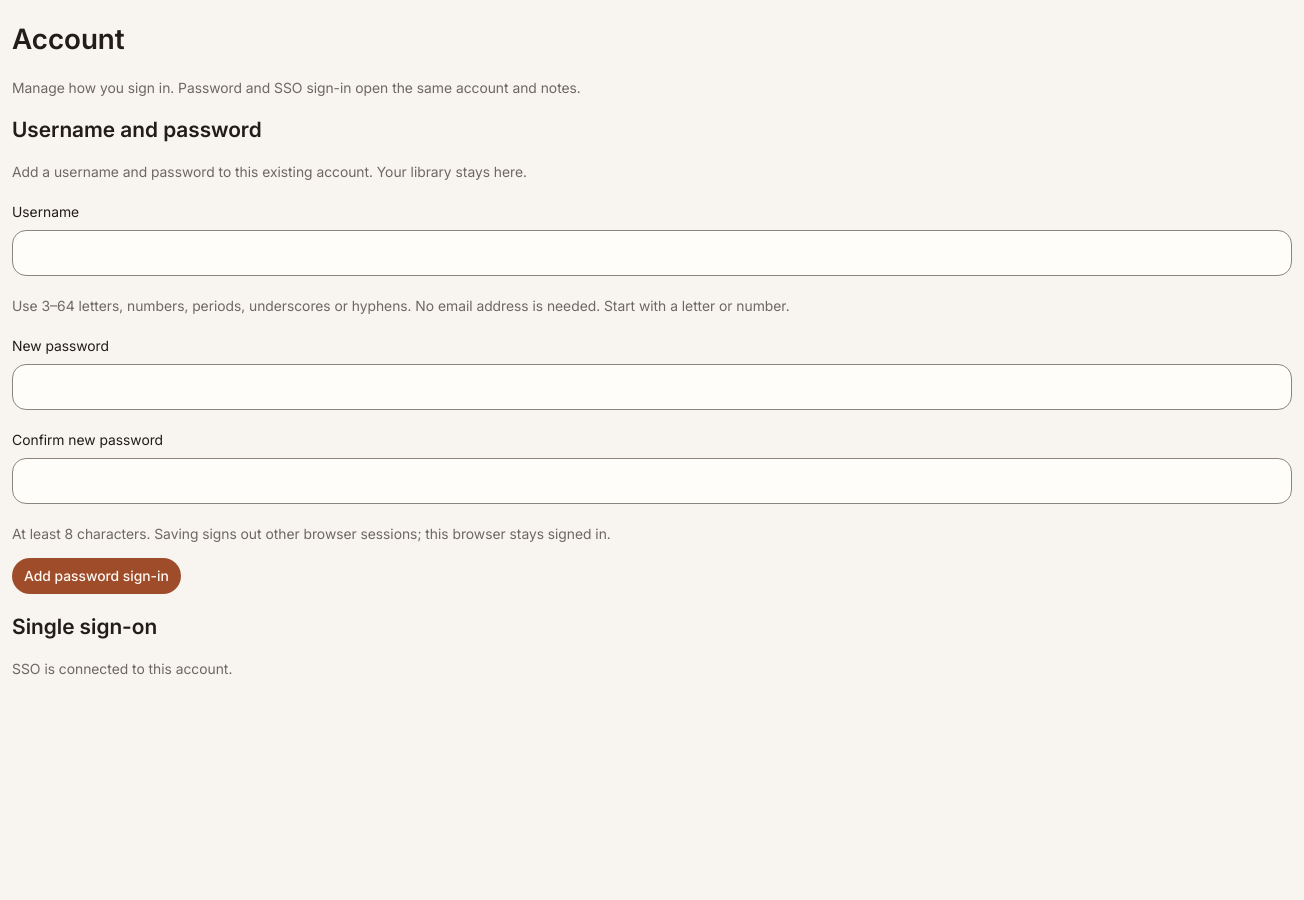
Test: adds local credentials to the existing account and rehydrates its session instead of registering
Step 1. Type "Vito-local" into the field labelled "Username" → (652, 253), box [12,230,1292,276]
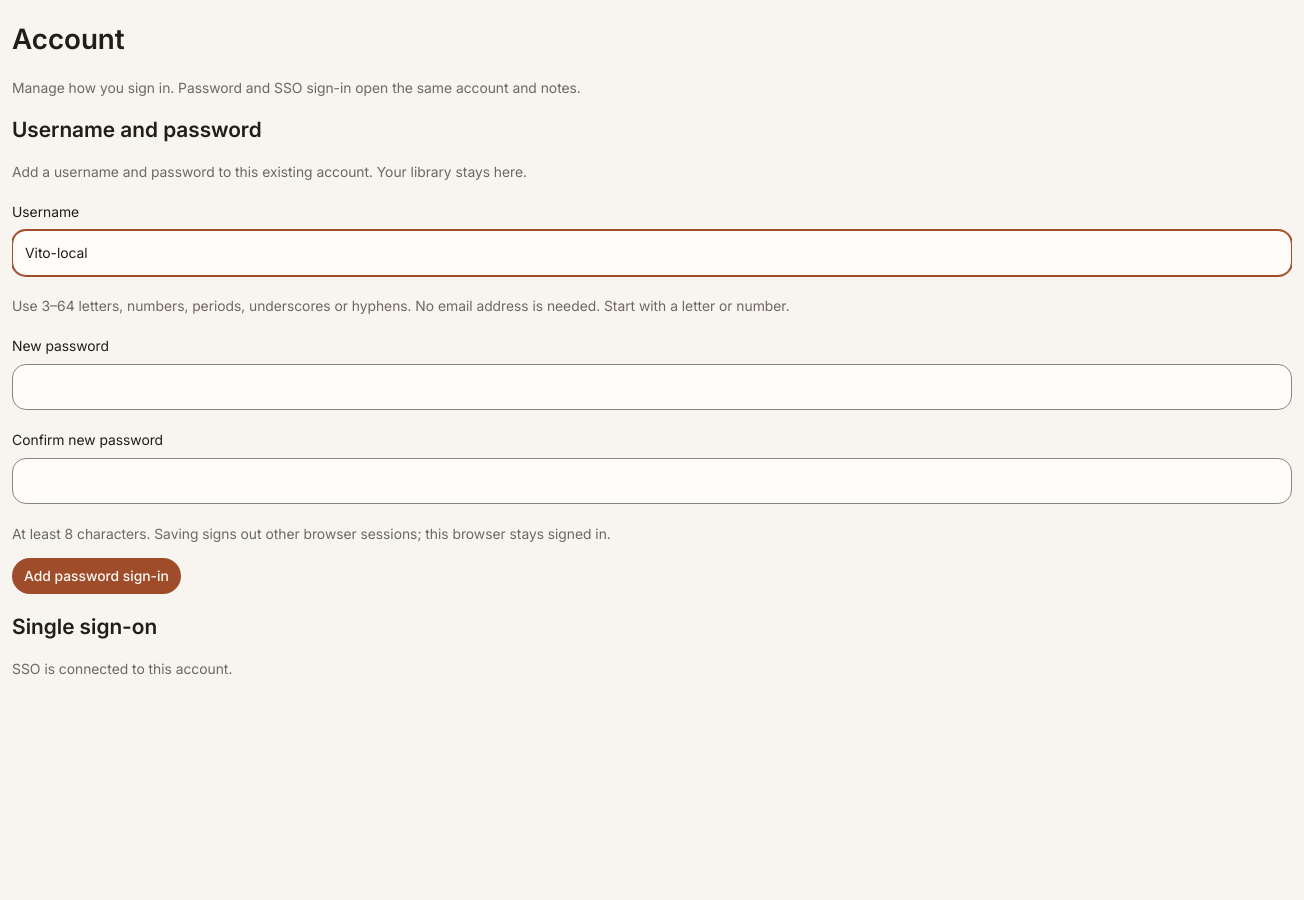
Expected: the field labelled "Current password" is not shown
Step 2. Type "new safe passphrase" into the password field labelled "New password" → (652, 387), box [12,364,1292,410]
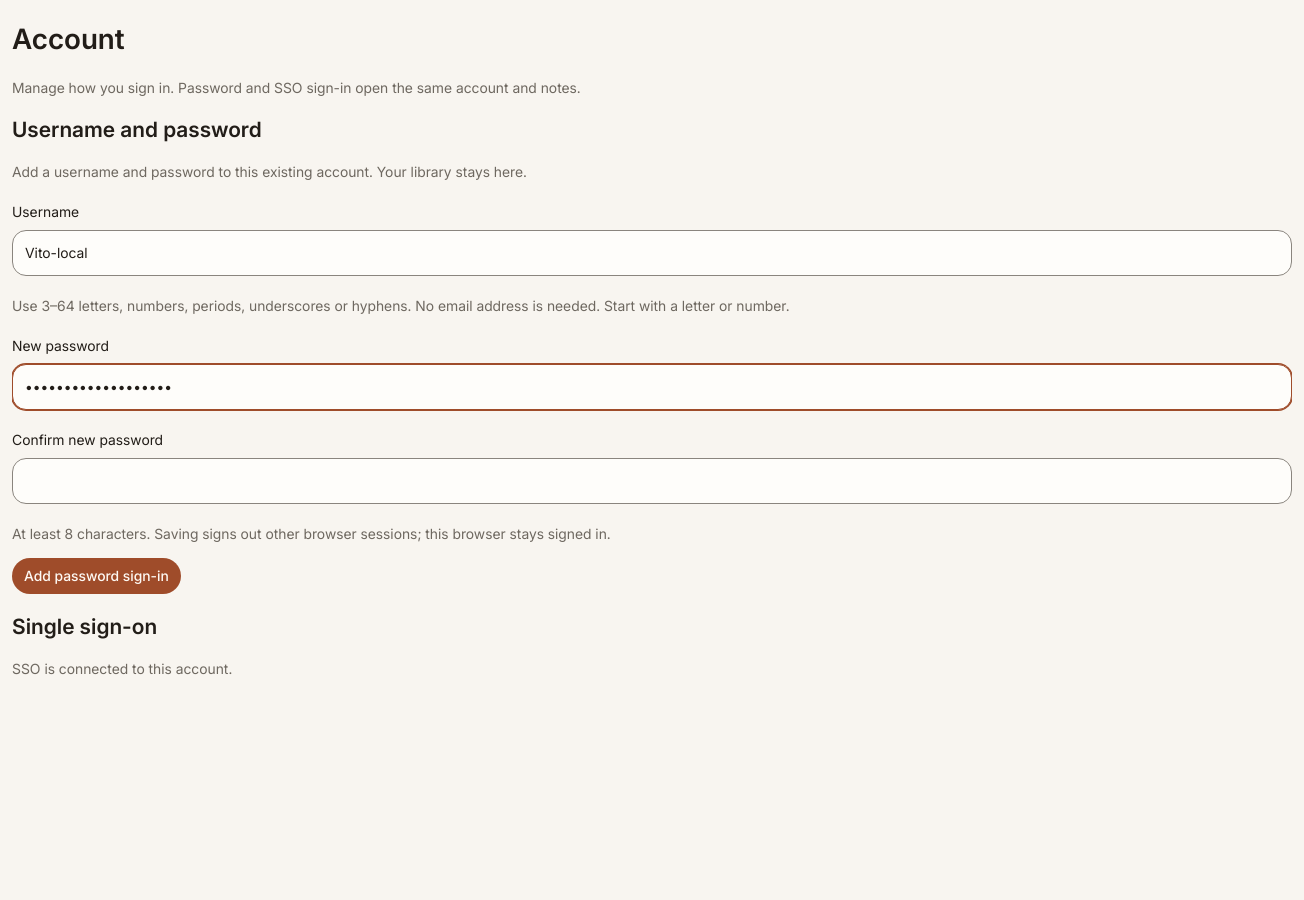
Step 3. Type "new safe passphrase" into the password field labelled "Confirm new password" → (652, 481), box [12,458,1292,504]
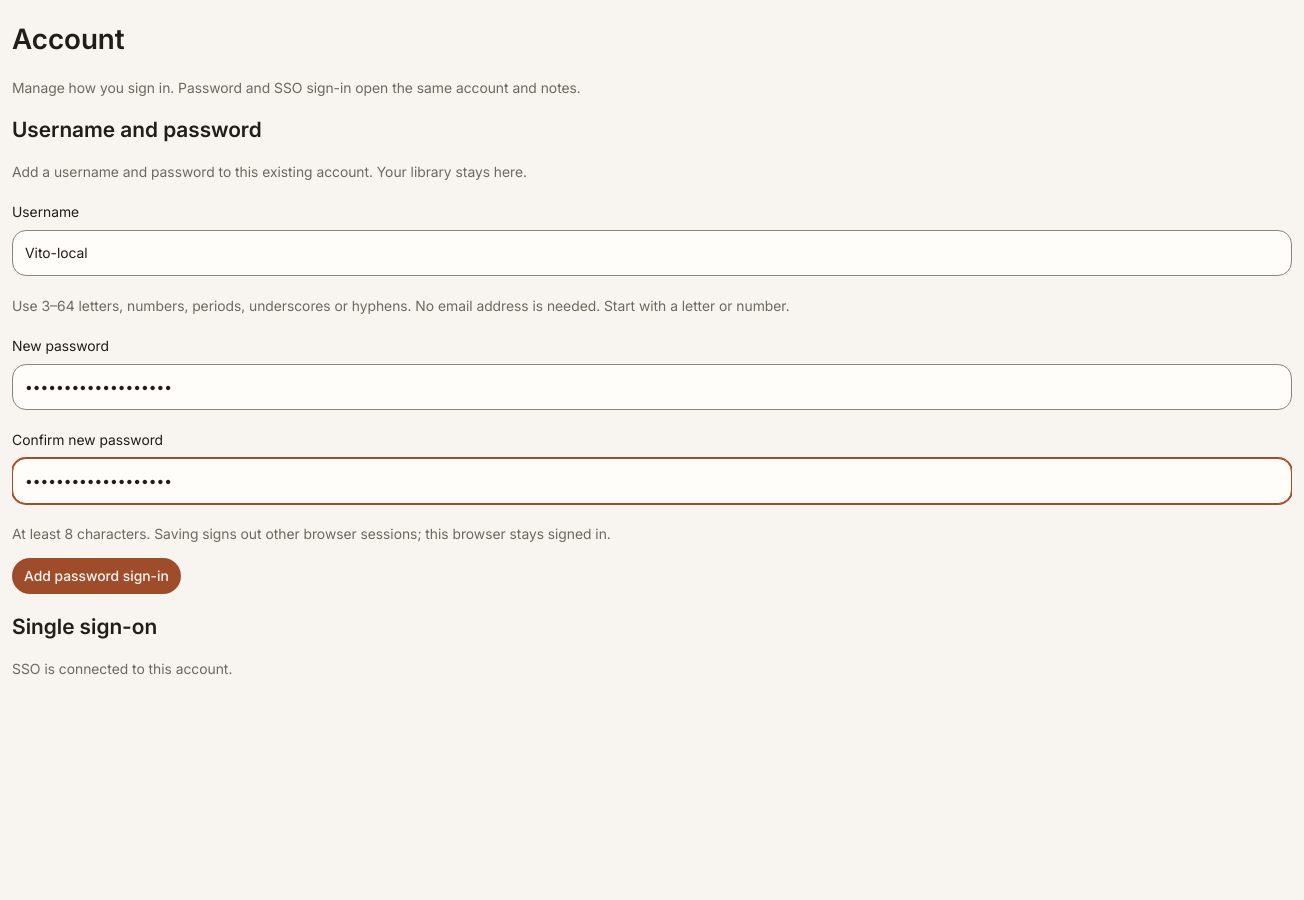
Step 4. Click the button "Add password sign-in" → (96, 576), box [12,558,181,594]
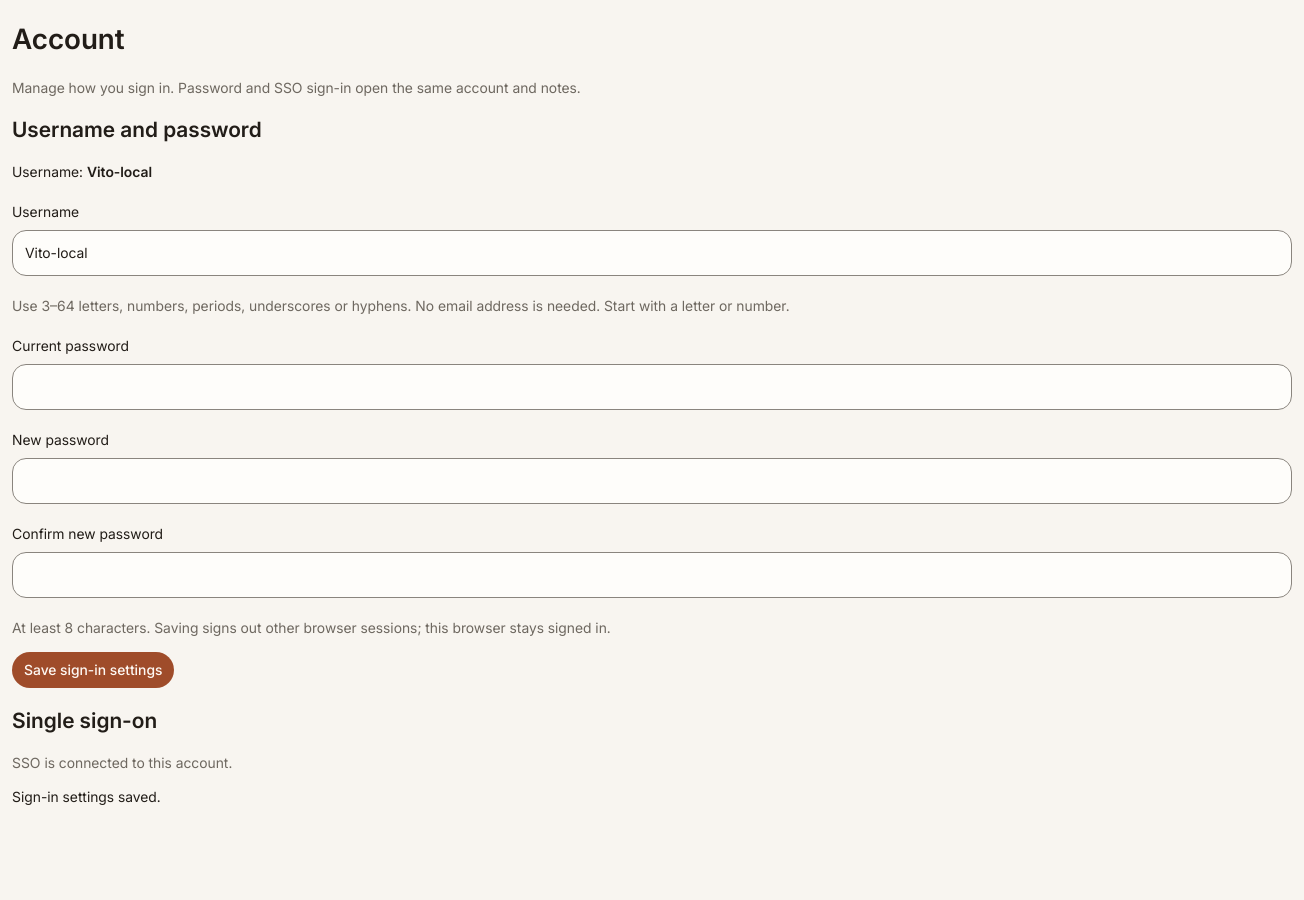
Expected: the text "Sign-in settings saved." is shown, [12,788,161,805]
Expected: the password field labelled "New password" is empty, [12,458,1292,504]
